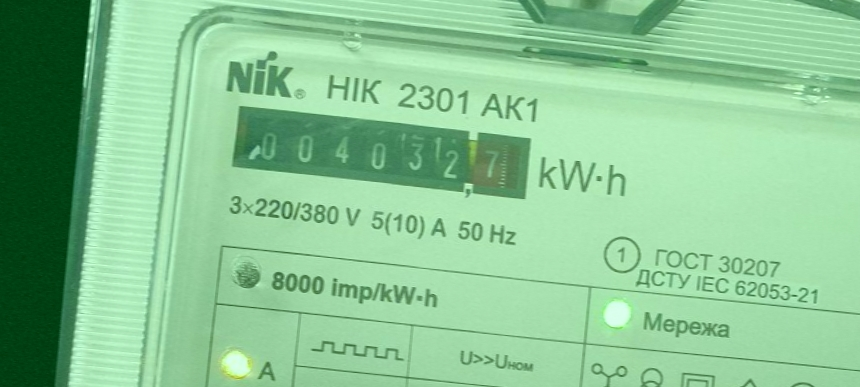0: (295, 129, 318, 163), (259, 125, 281, 160), (369, 136, 391, 170)
2: (442, 144, 463, 179)
3: (407, 137, 428, 171)
4: (332, 129, 355, 167)
7: (483, 145, 503, 179)
screen: (222, 94, 543, 210)
